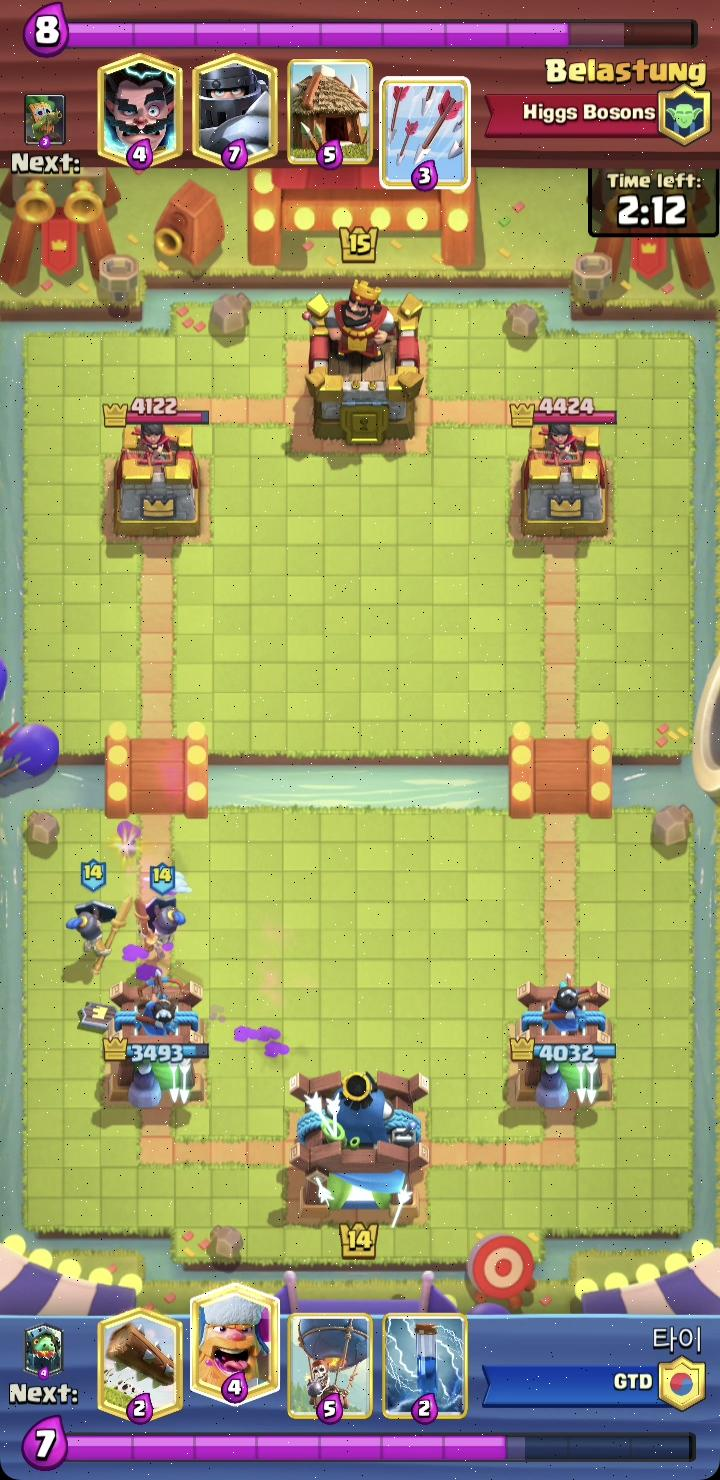EKingTower: (302, 279, 423, 444)
EnemyPrincessTower: (521, 417, 607, 534), (116, 417, 198, 533)
OGuard: (139, 863, 185, 954), (67, 900, 116, 958), (82, 860, 105, 890)
OwnKingTower: (291, 1070, 428, 1226)
OwnPrincessTower: (102, 976, 207, 1109), (510, 975, 615, 1108)
